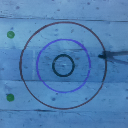Axe Tip: (100, 56, 113, 63)
